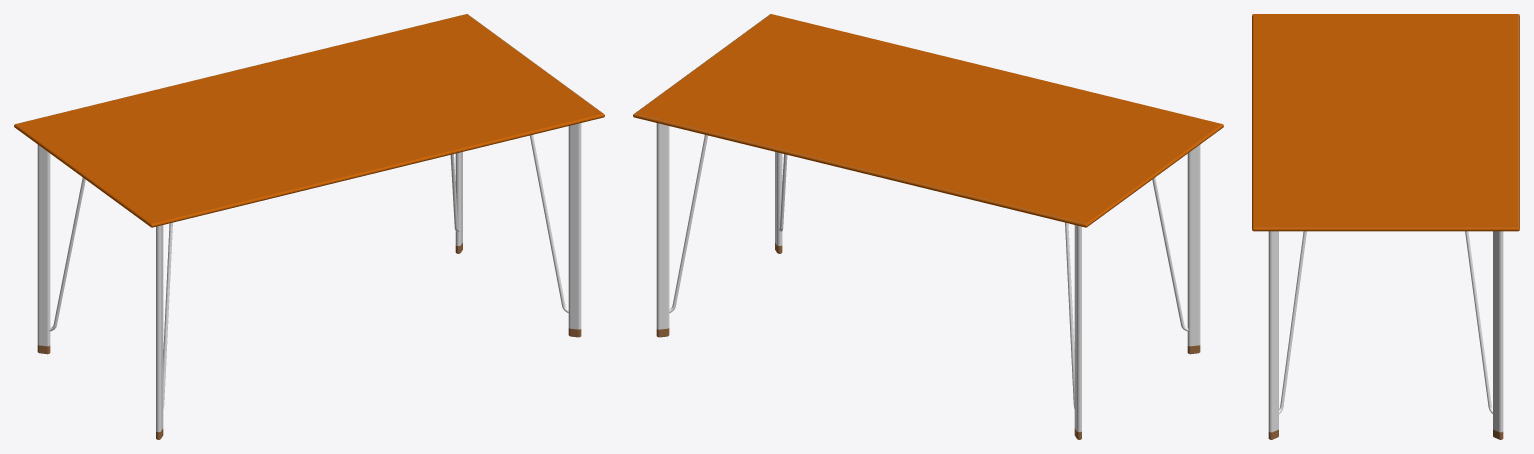
File: table3.glb
3 views of the same model, side by side, from view 1: azimuth 30°, elevation 25°; view 2: azimuth 150°, elevation 25°; view 3: azimuth 270°, elevation 25° (orthographic). The views are drawn at different scales.
Parts seen in each view (by area): view 1: Solid22, Solid4, Solid19, Solid14, Solid3, Solid13, Solid9, Solid18; view 2: Solid22, Solid9, Solid14, Solid19, Solid8, Solid18, Solid4, Solid13; view 3: Solid22, Solid4, Solid9, Solid3, Solid8.
Part boxes in pixels (<box>): Solid22: <box>14,14,604,227</box>; Solid4: <box>568,123,581,329</box>; Solid19: <box>37,145,50,346</box>; Solid14: <box>156,225,163,431</box>; Solid3: <box>530,135,568,312</box>; Solid13: <box>163,222,172,408</box>; Solid9: <box>455,152,462,245</box>; Solid18: <box>49,177,85,331</box>; Solid22: <box>633,14,1223,227</box>; Solid9: <box>656,123,669,329</box>; Solid14: <box>1187,145,1200,346</box>; Solid19: <box>1074,225,1081,431</box>; Solid8: <box>669,135,707,312</box>; Solid18: <box>1065,222,1074,408</box>; Solid4: <box>775,152,782,245</box>; Solid13: <box>1152,177,1188,331</box>; Solid22: <box>1252,14,1519,231</box>; Solid4: <box>1268,231,1278,432</box>; Solid9: <box>1493,231,1503,432</box>; Solid3: <box>1279,231,1306,413</box>; Solid8: <box>1465,231,1492,413</box>.
Bounding box in the file's own units: 1.52 × 0.722 × 0.8.
